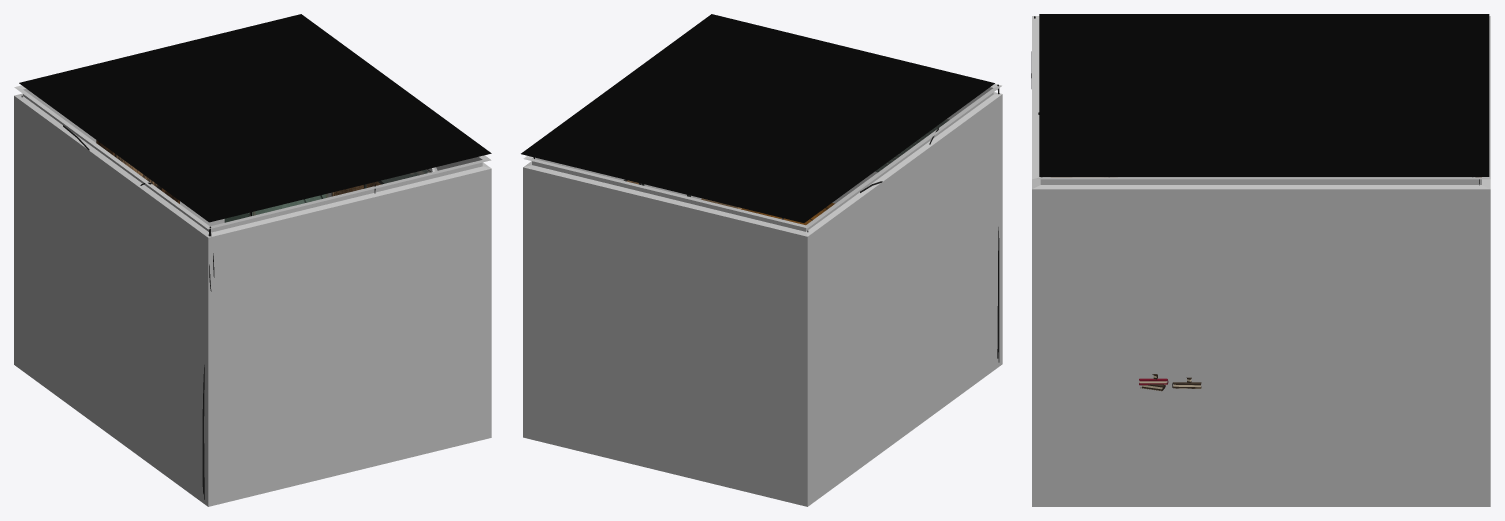
Rendered from office.gltf.
3 views of the same model, side by side, from view 1: azimuth 30°, elevation 25°; view 2: azimuth 150°, elevation 25°; view 3: azimuth 270°, elevation 25° (orthographic). The views are drawn at different scales.
Visible parts, largest first — view 1: piece, plafond; view 2: piece, plafond; view 3: piece, plafond.
Boxes of the visible parts, x1,y1,x2,y2 form: piece: (14, 85, 491, 506); plafond: (19, 14, 491, 222); piece: (523, 84, 1002, 506); plafond: (521, 14, 994, 222); piece: (1032, 16, 1490, 506); plafond: (1039, 14, 1489, 176).
Size of the model in its own units: 75.87 by 70.44 by 87.77.
